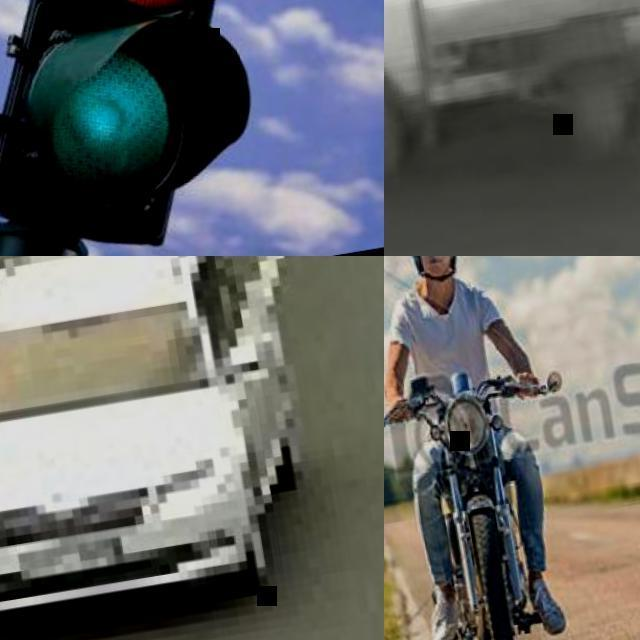car: (1, 242, 290, 614)
